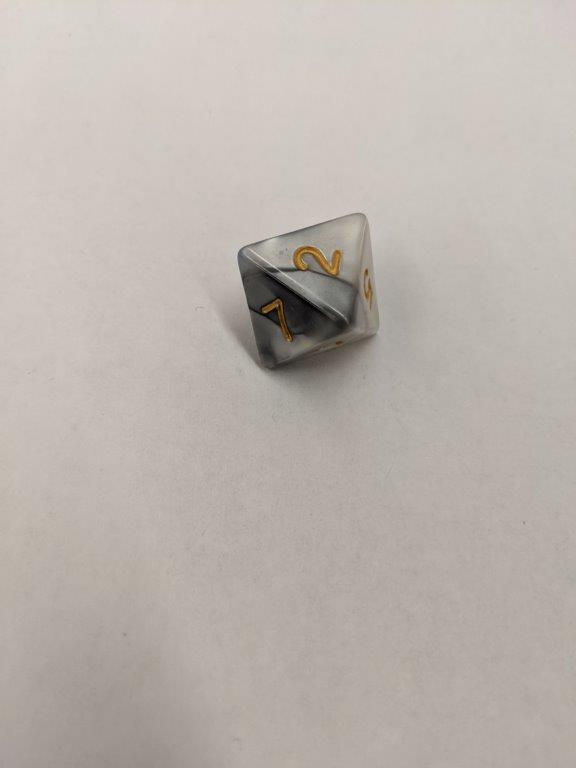d8-2: (236, 210, 385, 370)
